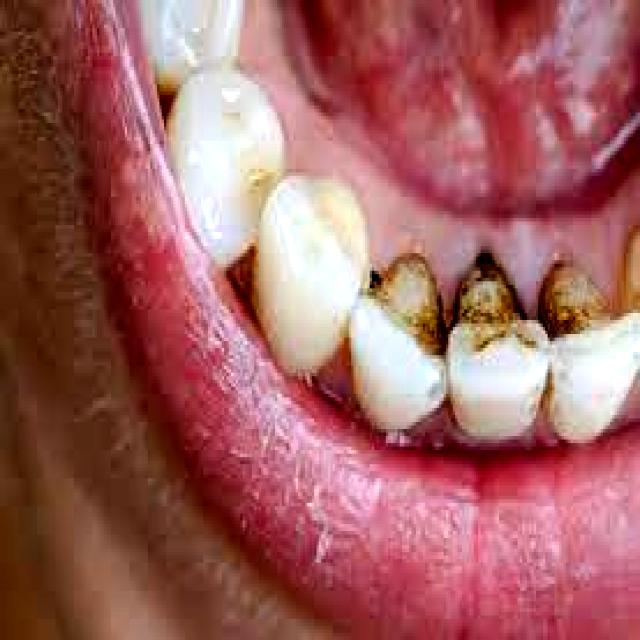tooth-discoloration: (446, 257, 548, 443), (538, 260, 638, 369)
